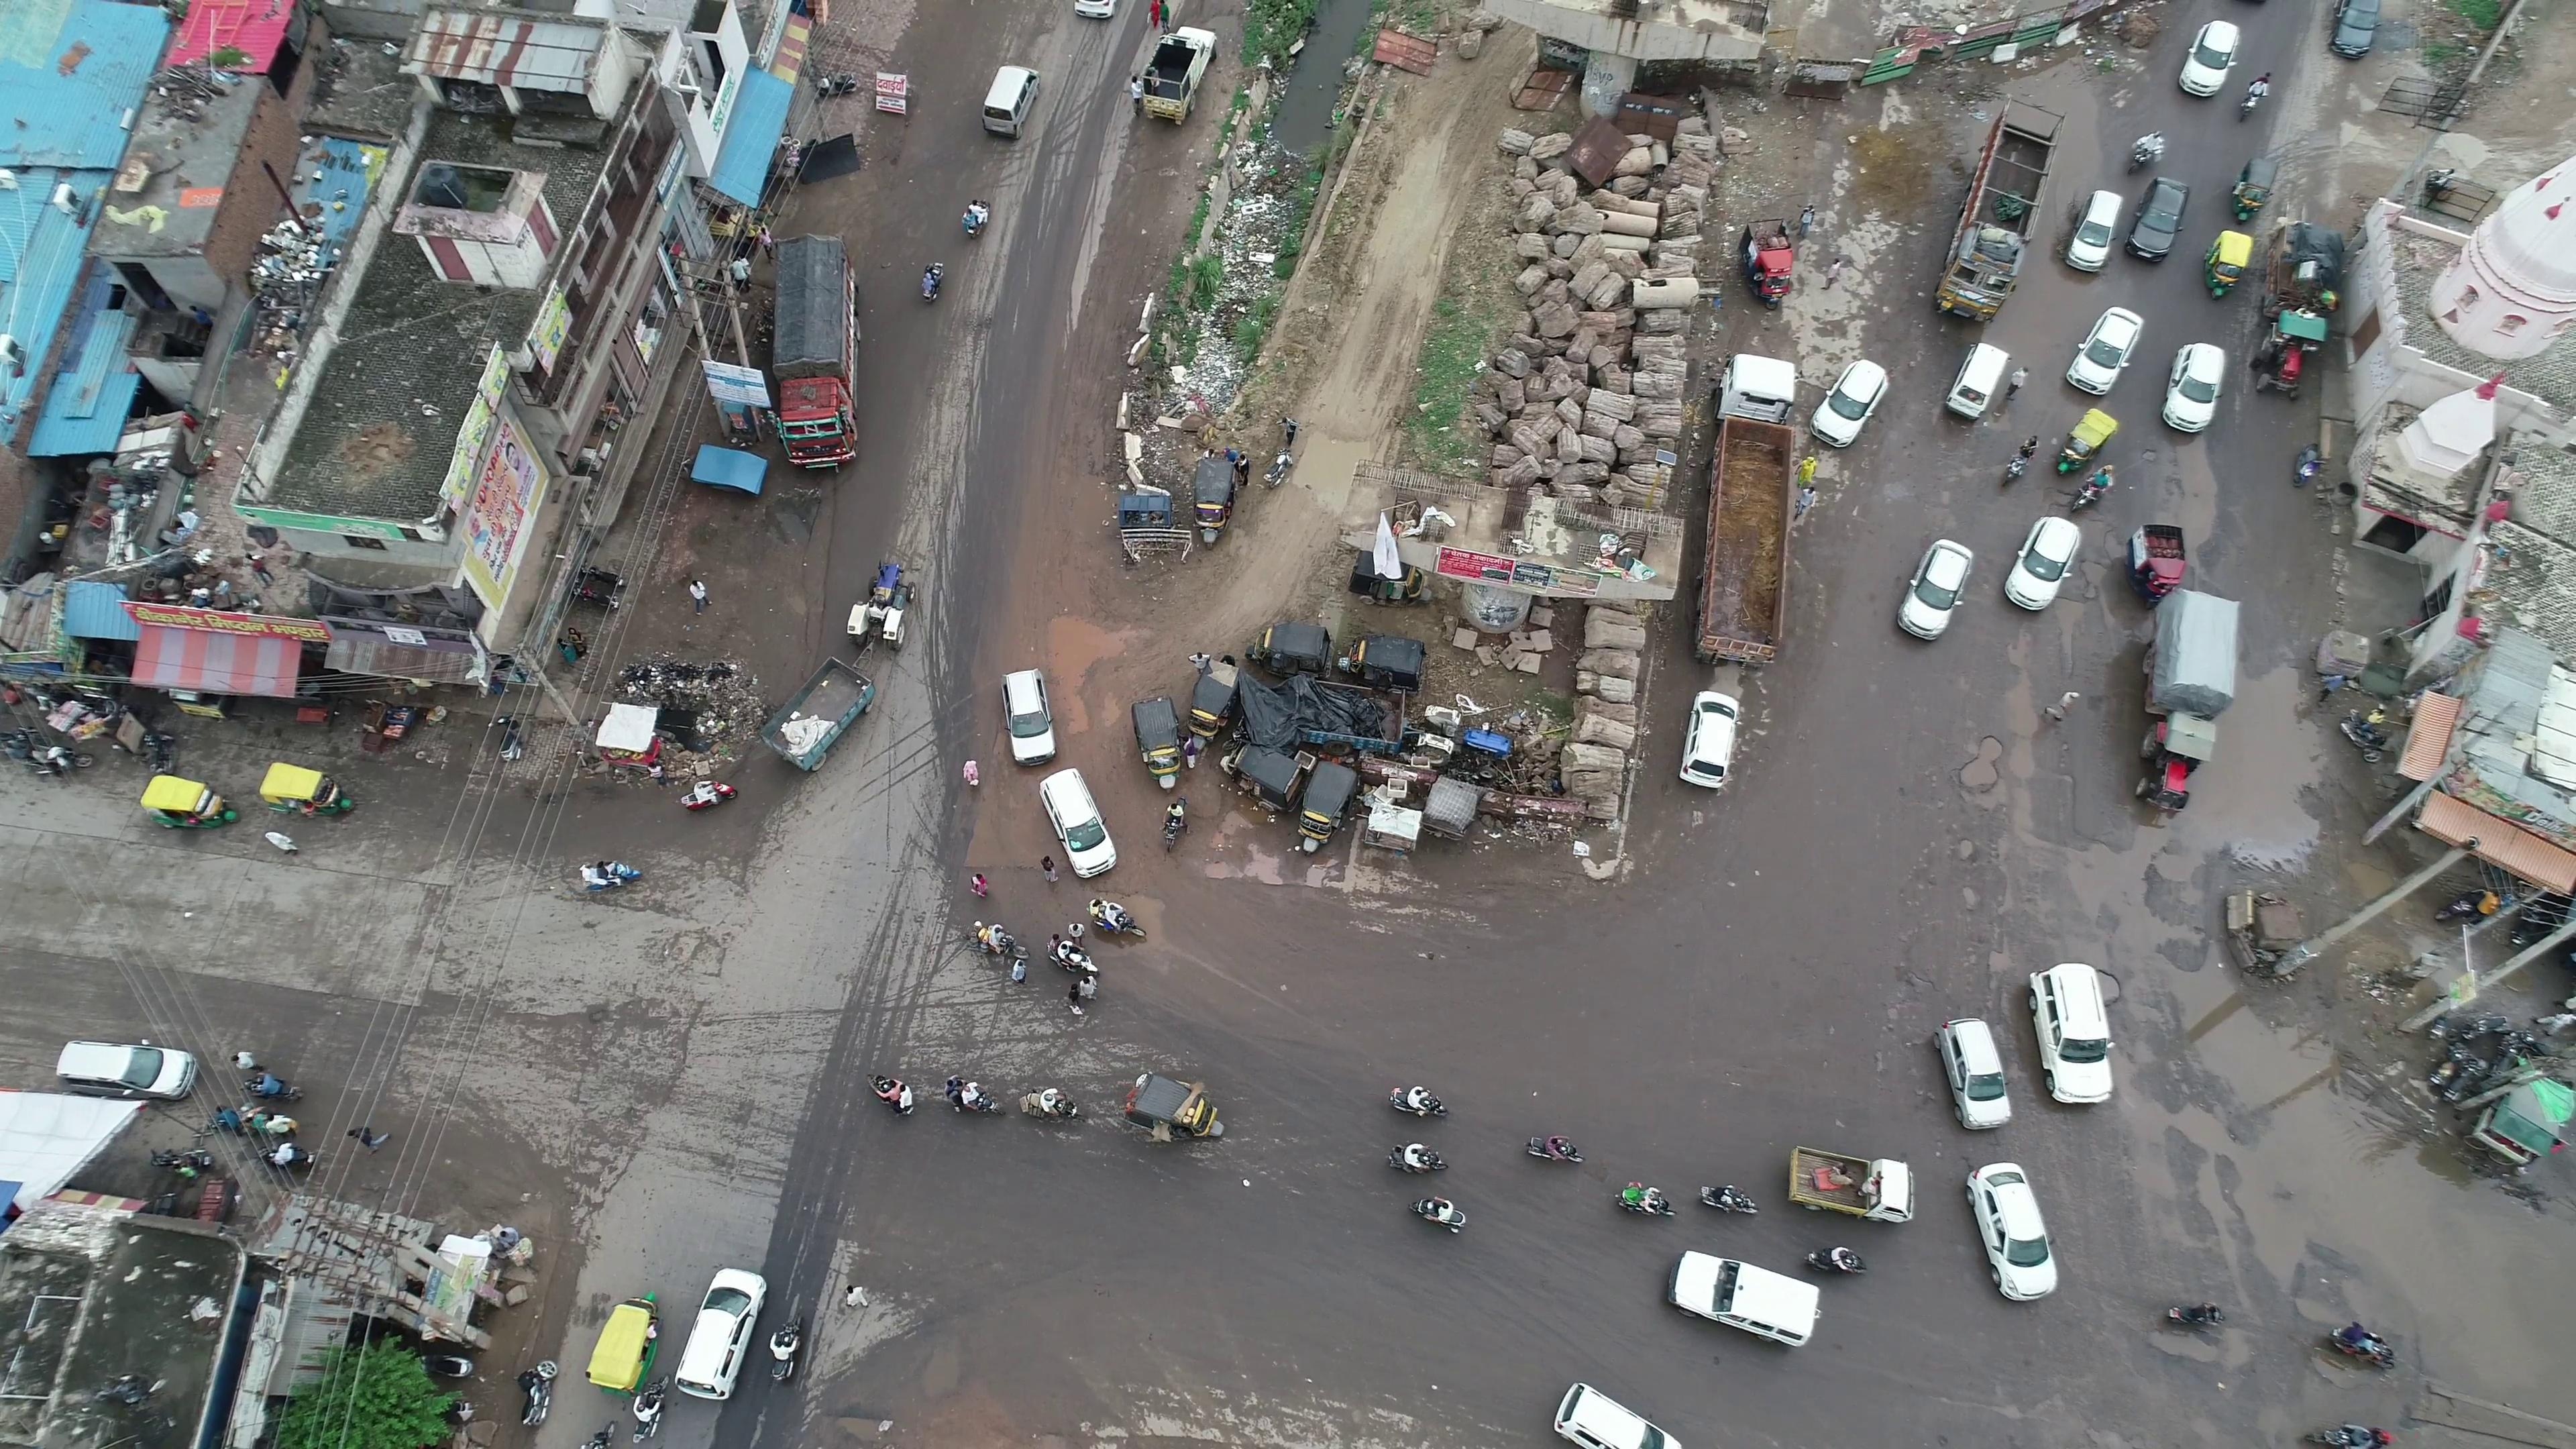Potholes: (1913, 686, 2013, 955), (2123, 439, 2187, 483)
